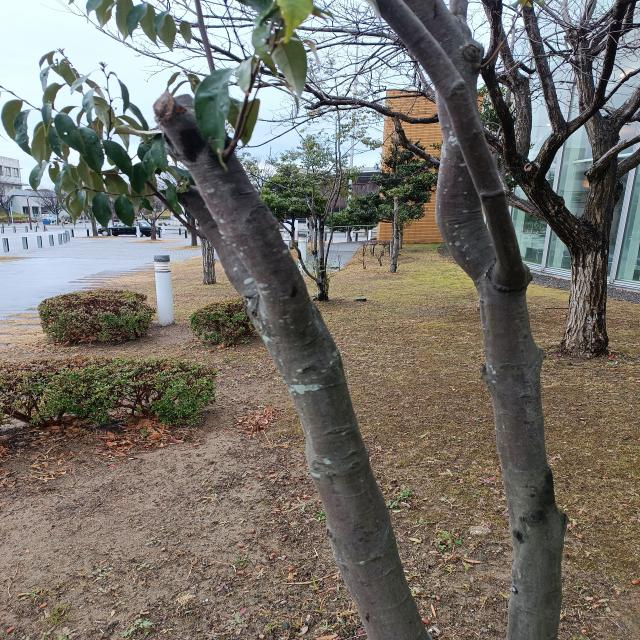Branch: (153, 92, 427, 640), (437, 91, 565, 640), (405, 0, 483, 100)
Twig: (380, 0, 527, 291)
